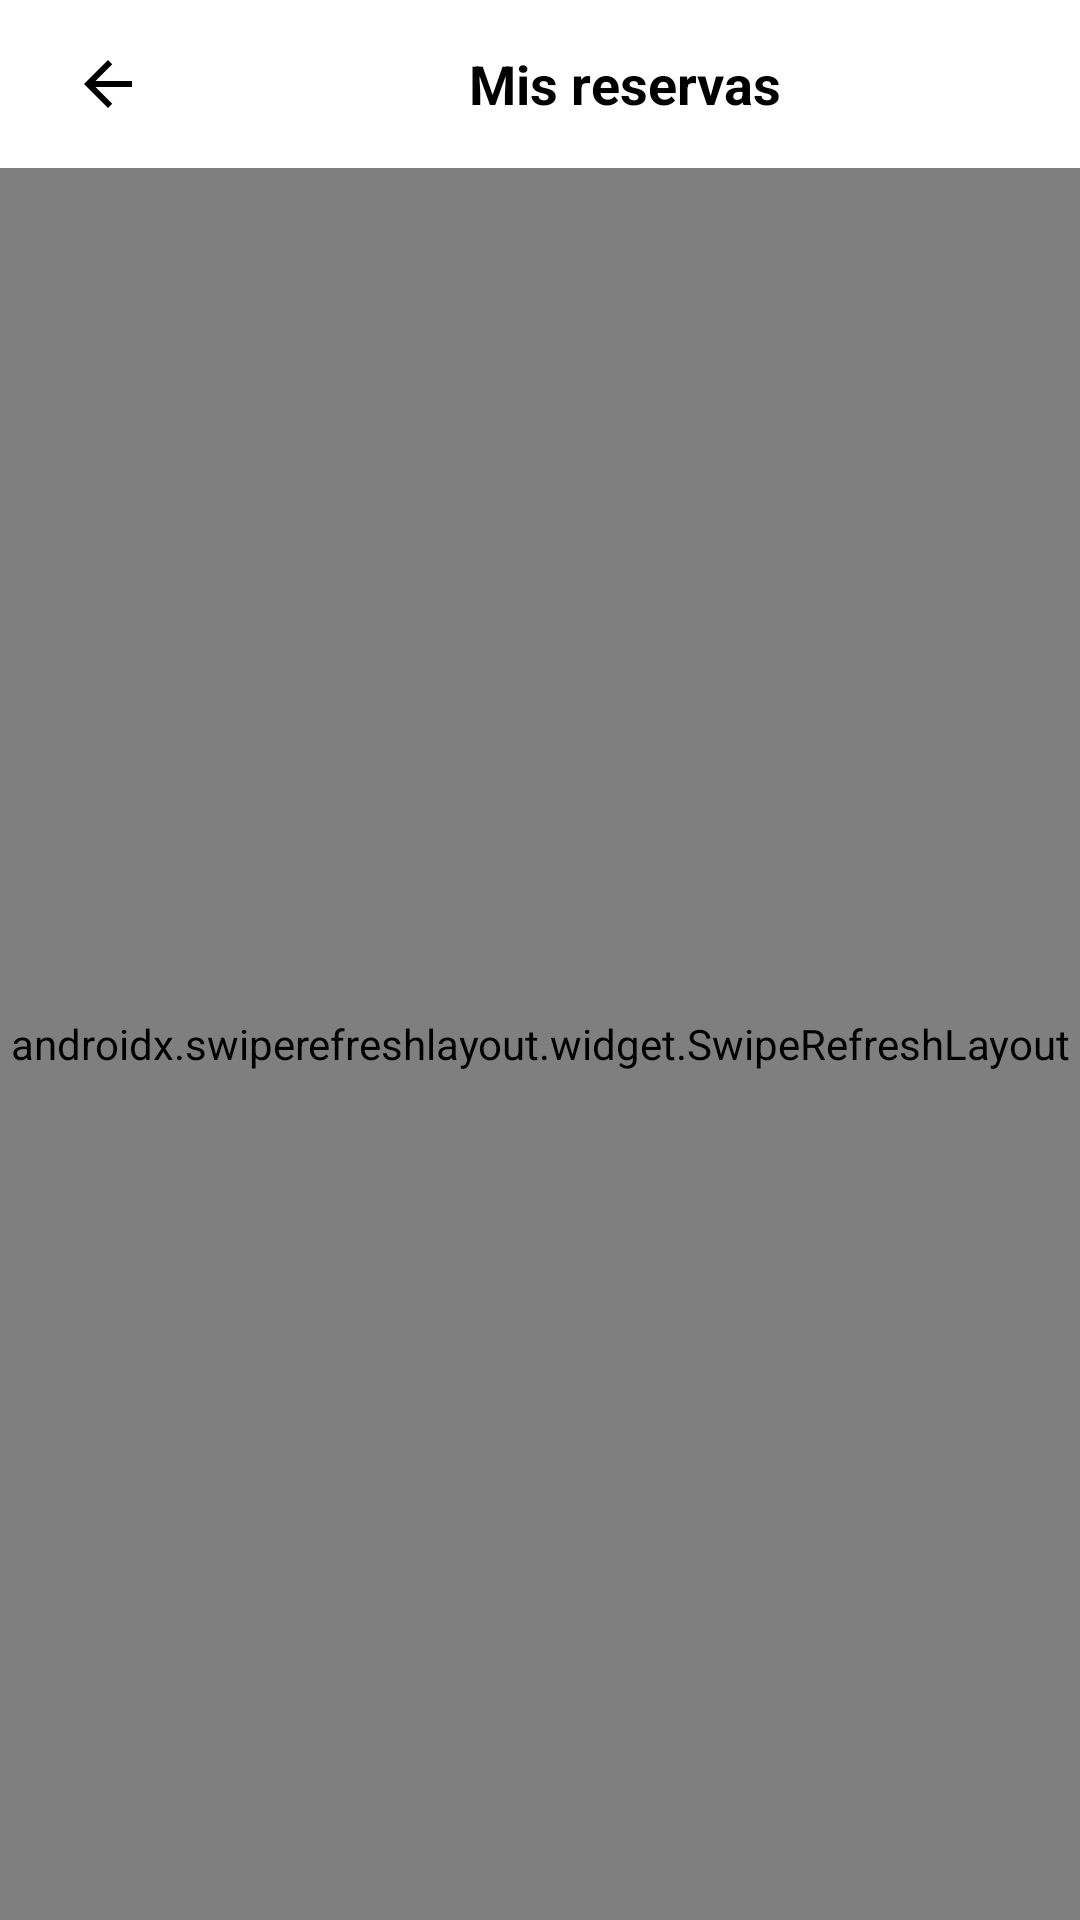

Screen size 1080px x 1920px. Icon name, then its center in pixels as point (x, y):
Atrás: point (108, 84)
